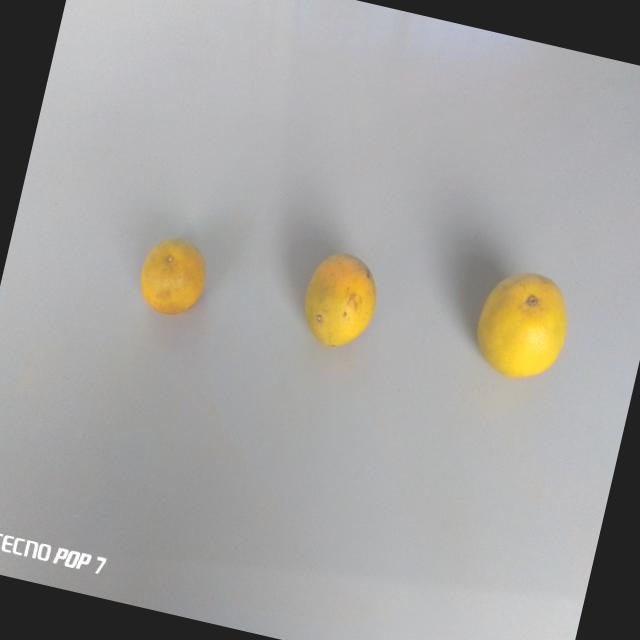Ripe orange: (462, 254, 580, 398), (280, 232, 394, 366), (125, 224, 220, 339)
